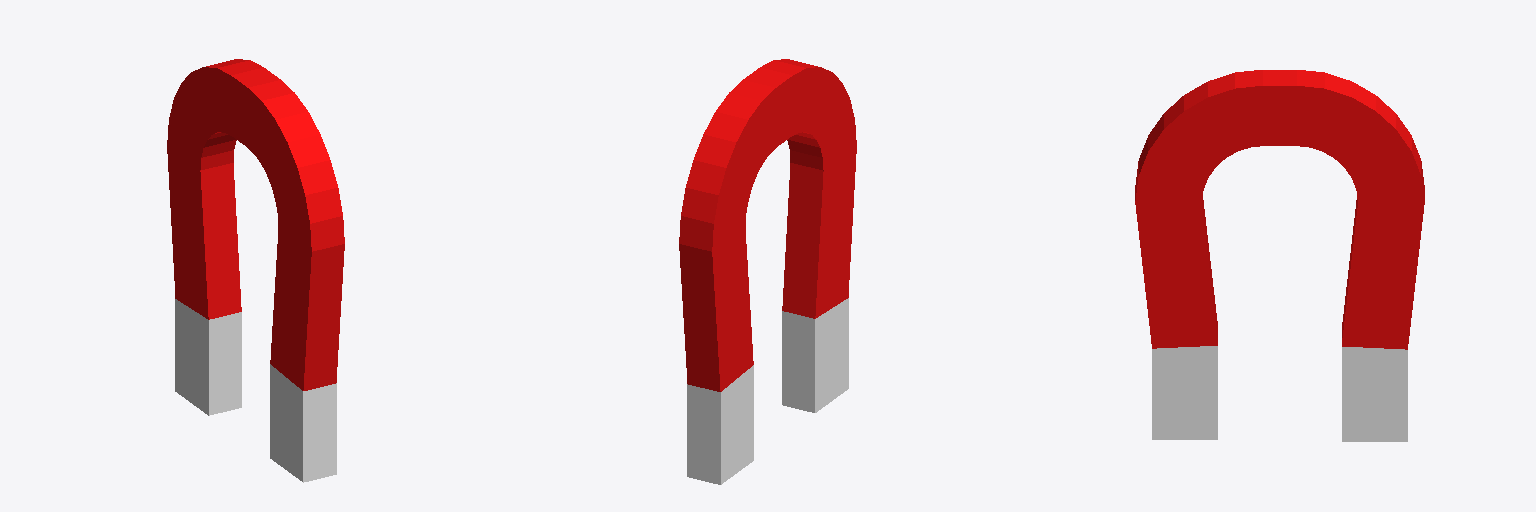
Rendered from magnet.obj.
3 views of the same model, side by side, from view 1: azimuth 30°, elevation 25°; view 2: azimuth 150°, elevation 25°; view 3: azimuth 270°, elevation 25° (orthographic).
Visible parts, largest first — view 1: Line01, Object01; view 2: Line01, Object01; view 3: Line01, Object01.
Boxes of the visible parts, x1=… form: Line01: x1=167, y1=59, x2=344, y2=390; Object01: x1=175, y1=299, x2=336, y2=482; Line01: x1=679, y1=59, x2=856, y2=391; Object01: x1=687, y1=298, x2=848, y2=484; Line01: x1=1135, y1=70, x2=1424, y2=349; Object01: x1=1152, y1=346, x2=1407, y2=441.
Size of the model in its own units: 16.26 by 167 by 123.